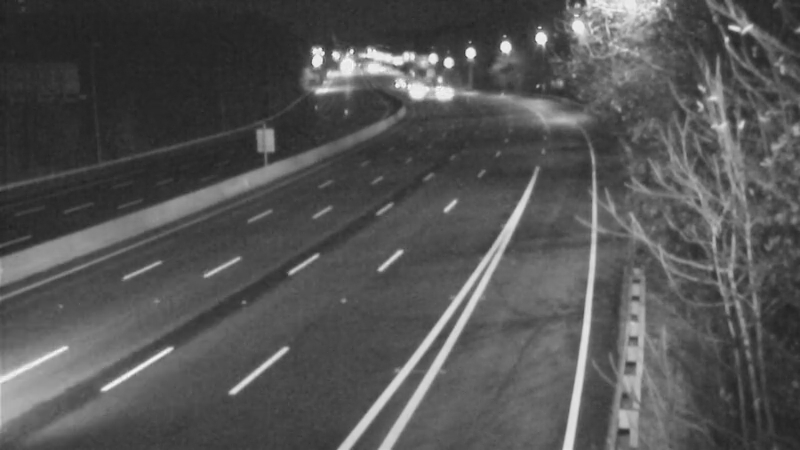vehicle: (374, 60, 424, 110), (391, 68, 441, 118), (420, 70, 470, 120)
